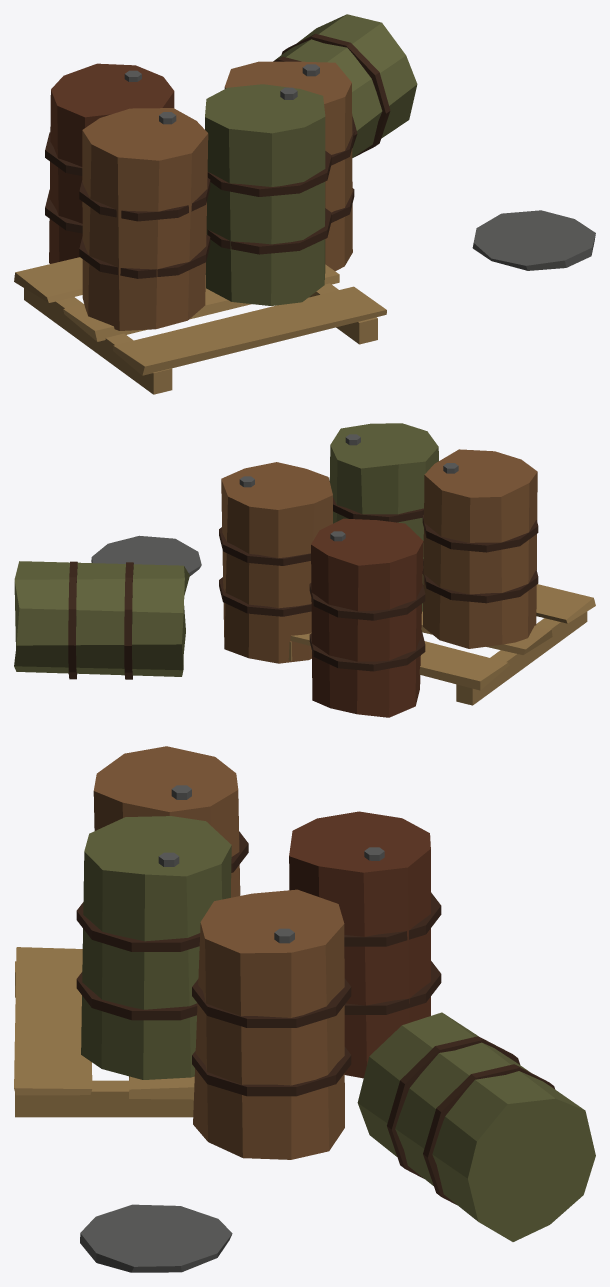
File: drums.glb
The picture shows the model from 3 angles, top to bottom: view 1: azimuth 30°, elevation 25°; view 2: azimuth 150°, elevation 25°; view 3: azimuth 270°, elevation 25°; orthographic projection. The views are drawn at different scales.
Visible parts, largest first — view 1: drums; view 2: drums; view 3: drums.
Part boxes in pixels (x1,y1,x2,y2): drums: [14, 14, 595, 394]; drums: [14, 423, 595, 717]; drums: [14, 746, 595, 1272].
Bounding box in the file's own units: 2.69 × 1.07 × 2.27.
